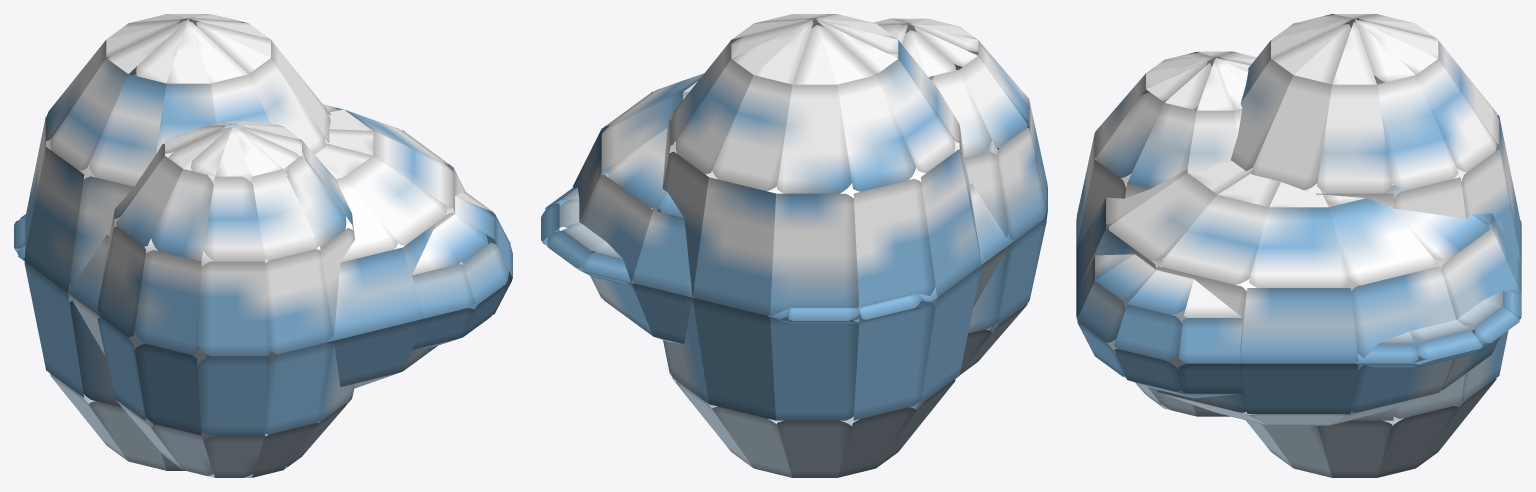
File: Snow_Bank.fbx
3 renders of one model, left to right at view 1: azimuth 30°, elevation 25°; view 2: azimuth 150°, elevation 25°; view 3: azimuth 270°, elevation 25°, orthographic.
Parts seen in each view (by area): view 1: sphere_1, sphere_2, sphere, sphere_5; view 2: sphere_2, sphere, sphere_1, sphere_3, sphere_4; view 3: sphere, sphere_2, sphere_1, sphere_5, sphere_3.
Boxes of the visible parts, bbox=[...] form: sphere_1: bbox=[97, 121, 354, 477]; sphere_2: bbox=[24, 14, 330, 470]; sphere: bbox=[67, 104, 465, 388]; sphere_5: bbox=[394, 191, 512, 349]; sphere_2: bbox=[652, 14, 981, 477]; sphere: bbox=[572, 73, 1014, 343]; sphere_1: bbox=[873, 18, 1047, 374]; sphere_3: bbox=[541, 173, 652, 284]; sphere_4: bbox=[768, 287, 937, 325]; sphere: bbox=[1076, 160, 1521, 425]; sphere_2: bbox=[1230, 14, 1521, 477]; sphere_1: bbox=[1076, 51, 1256, 416]; sphere_5: bbox=[1076, 254, 1341, 398]; sphere_3: bbox=[1355, 291, 1521, 368].
Size of the model in its own units: 100 by 112 by 100.
1 material, 1 textured.
